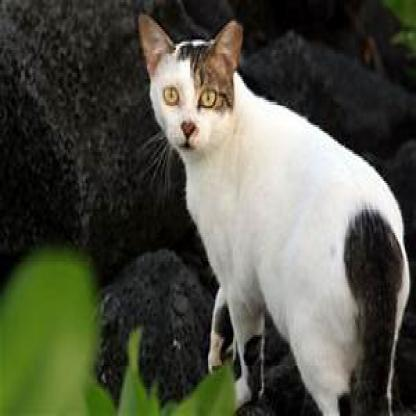cat: (136, 13, 409, 408)
